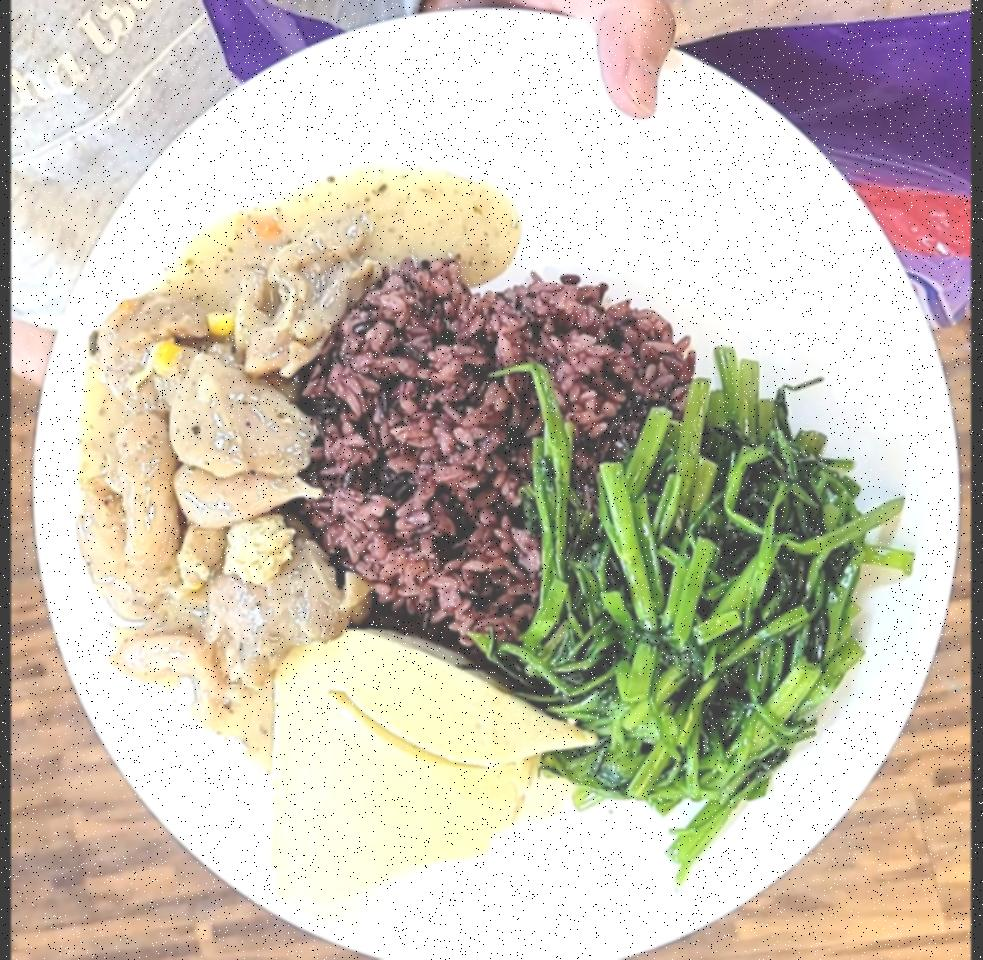big fried chicken leg: (22, 0, 957, 960)
braised fish: (318, 263, 684, 650)
braised fish fillet: (532, 363, 871, 826), (262, 632, 584, 924)
braised pork: (70, 208, 372, 721)
